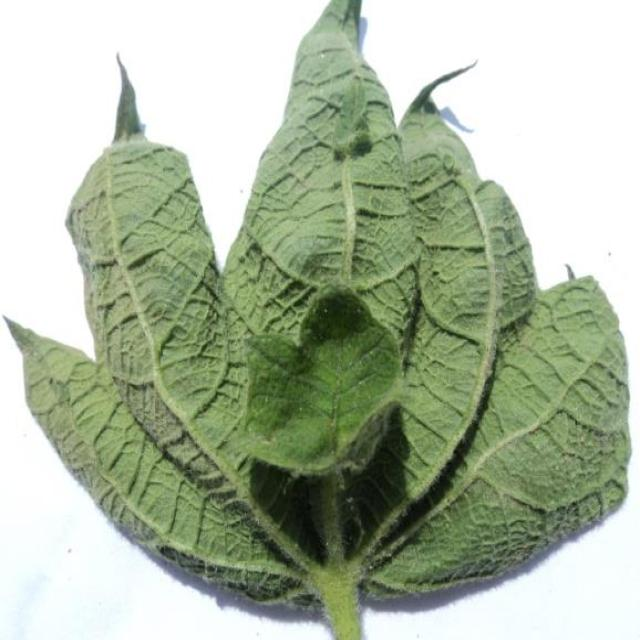Leaf Curl Virus: (102, 162, 572, 548)
